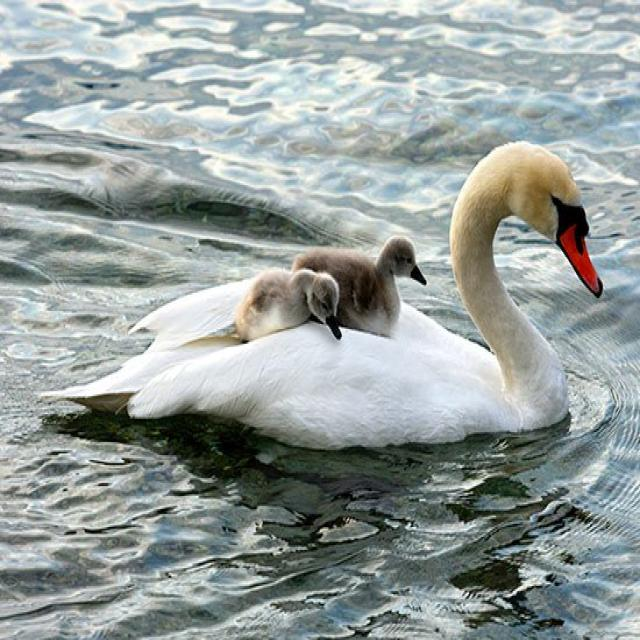swan: (44, 142, 602, 447), (292, 236, 425, 334), (235, 272, 341, 340)
